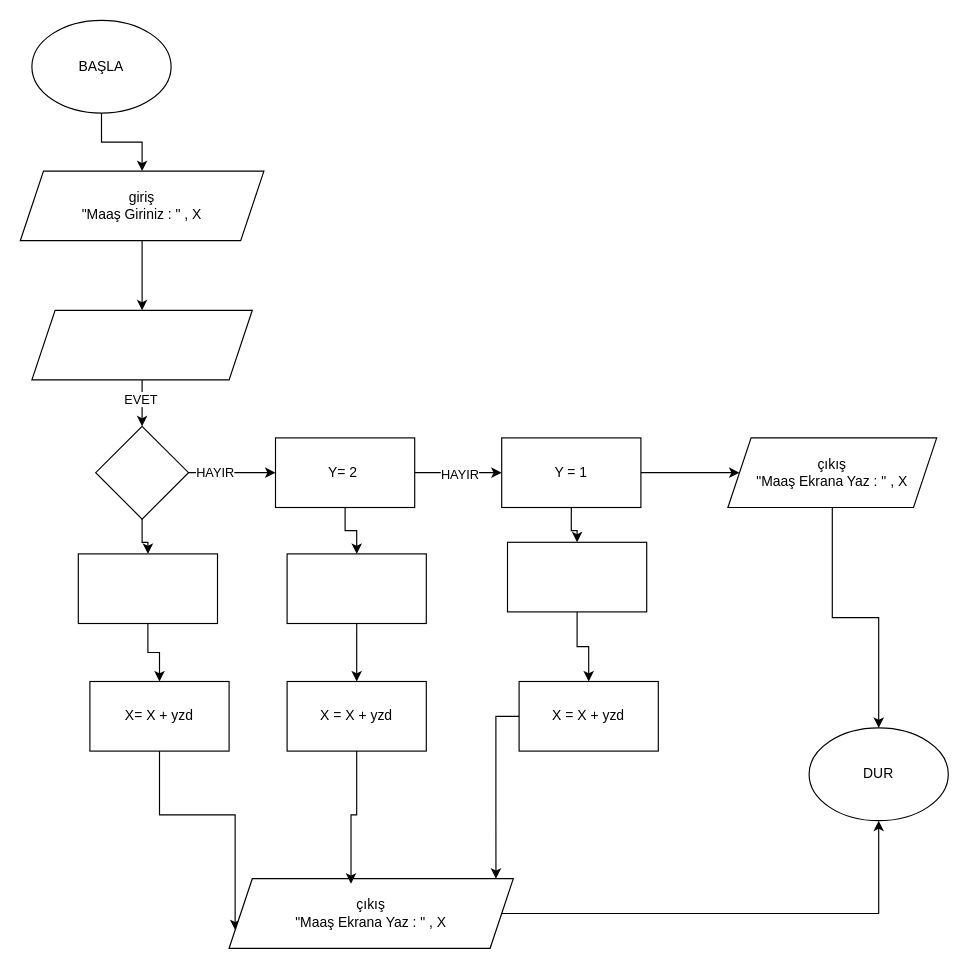
Image size: 969x969. Some labels were removed from this diagram. Each missing label, with the box of its shape:
giriş "Çocuk Saysını Giriniz : " , Y: (31, 309, 252, 380)
Y >= 3: (95, 425, 188, 519)
yzd= X % 10: (286, 553, 426, 624)
yzd= X % 15: (77, 553, 217, 624)
yzd= X % 5: (506, 541, 647, 612)
